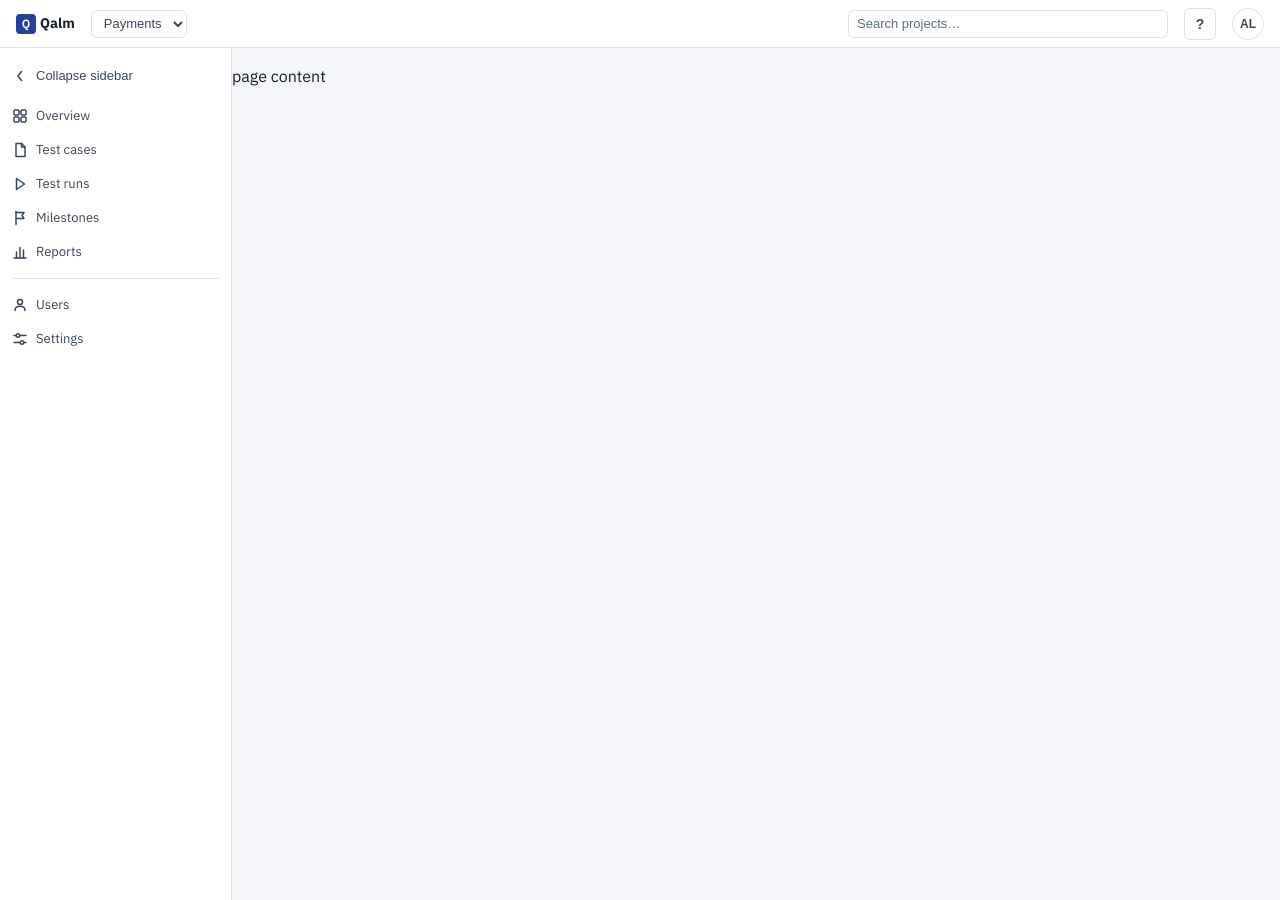
§7 shortcuts › the help dialog traps Tab and swallows page shortcuts while open
The width and height of the screenshot is (1280, 900).
Press ?
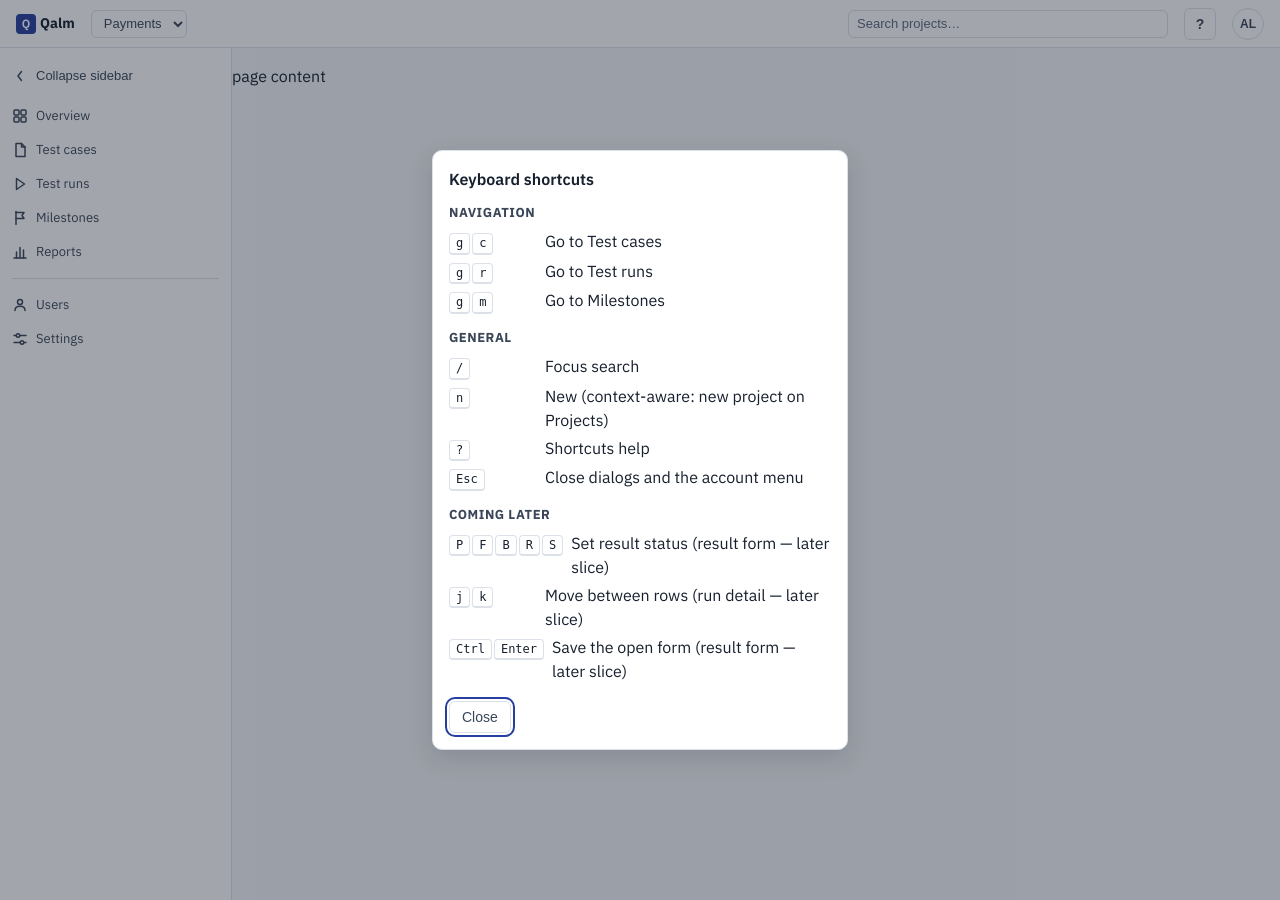
Press n
# Tab cycles inside the dialog (Close button is the only stop).
Press Tab
Click the button "Close" at (480, 717), box [449,701,511,733]
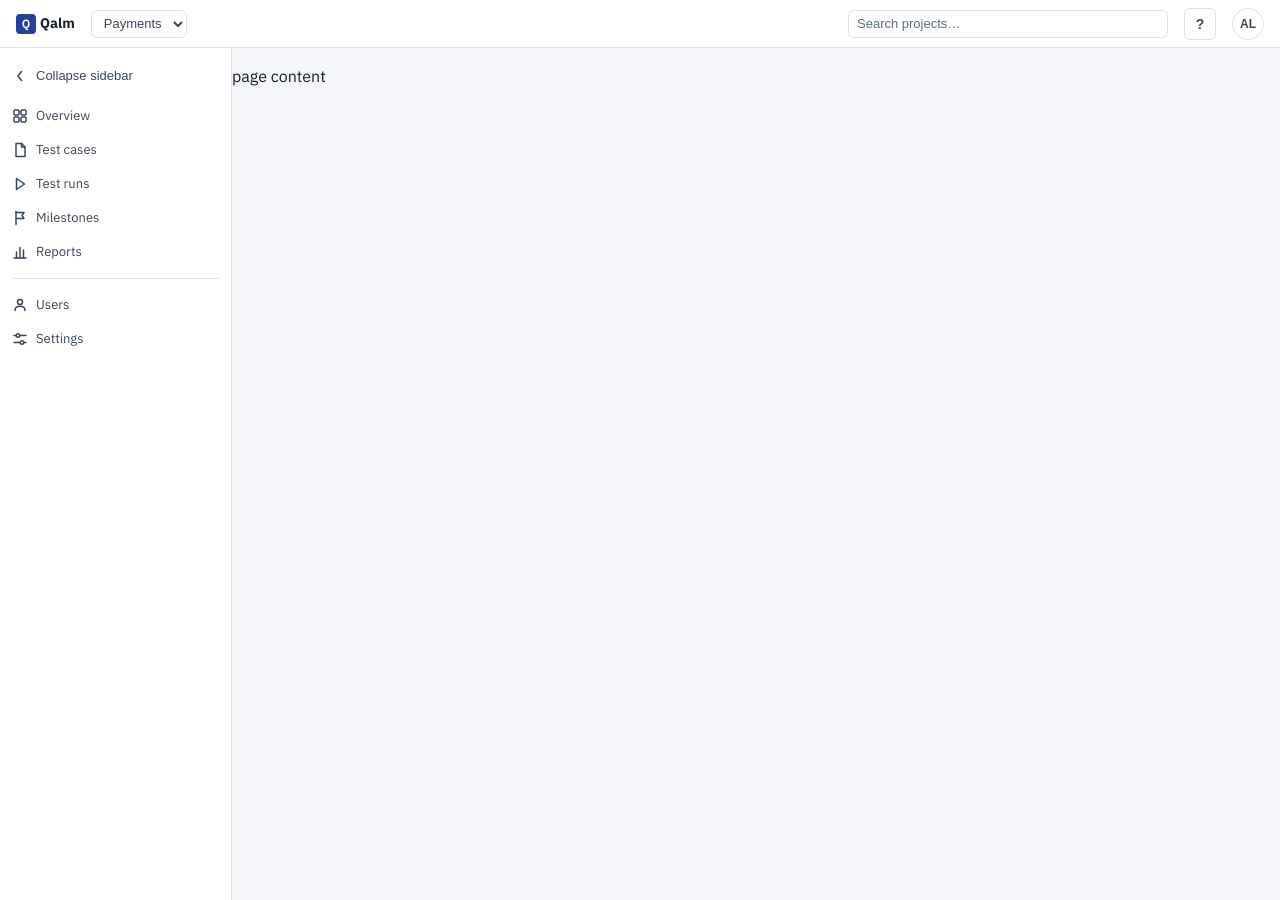
Result: the dialog is gone
